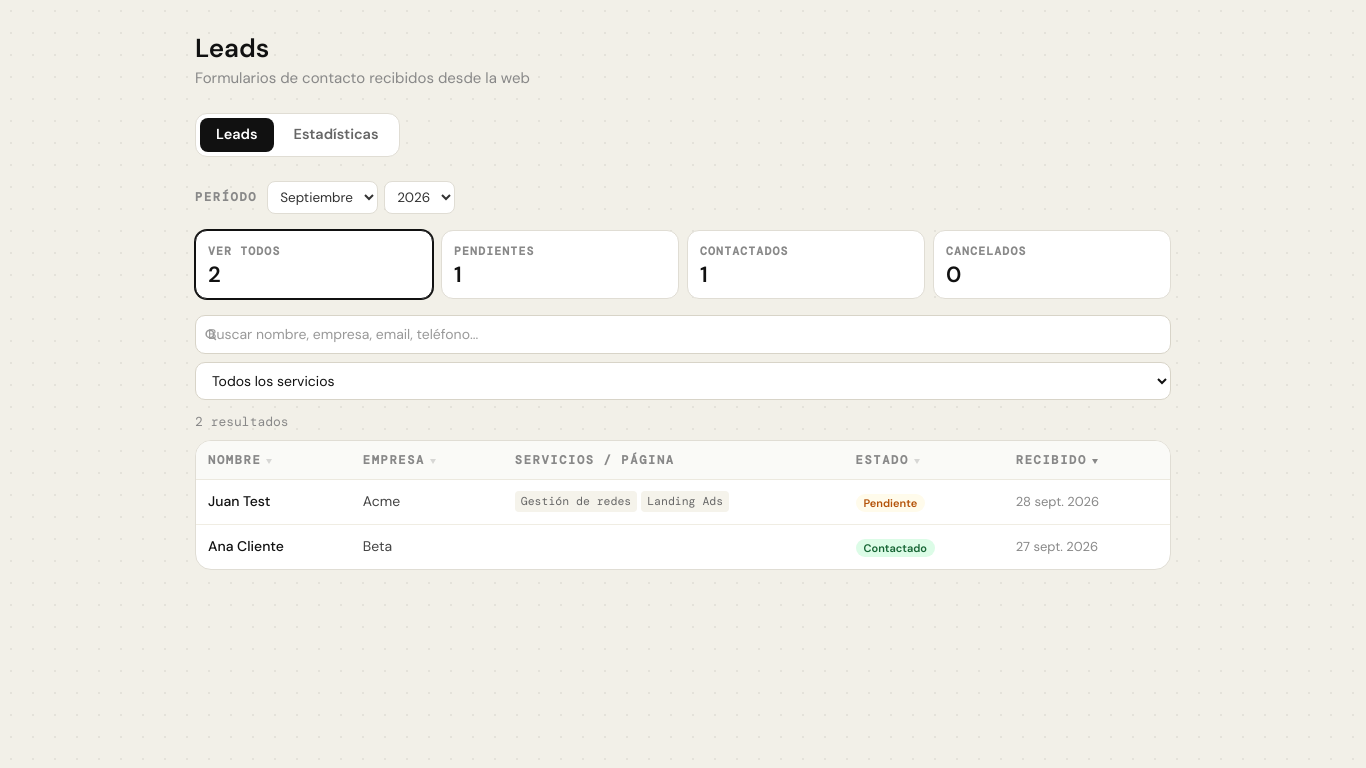
LeadsPage › labels mensaje and objetivo with their name followed by ":" in the detail modal
Expected: the text "Juan Test" is shown, [196,479,351,524]
Click the text "Juan Test": (683, 502) [196,479,1170,524]
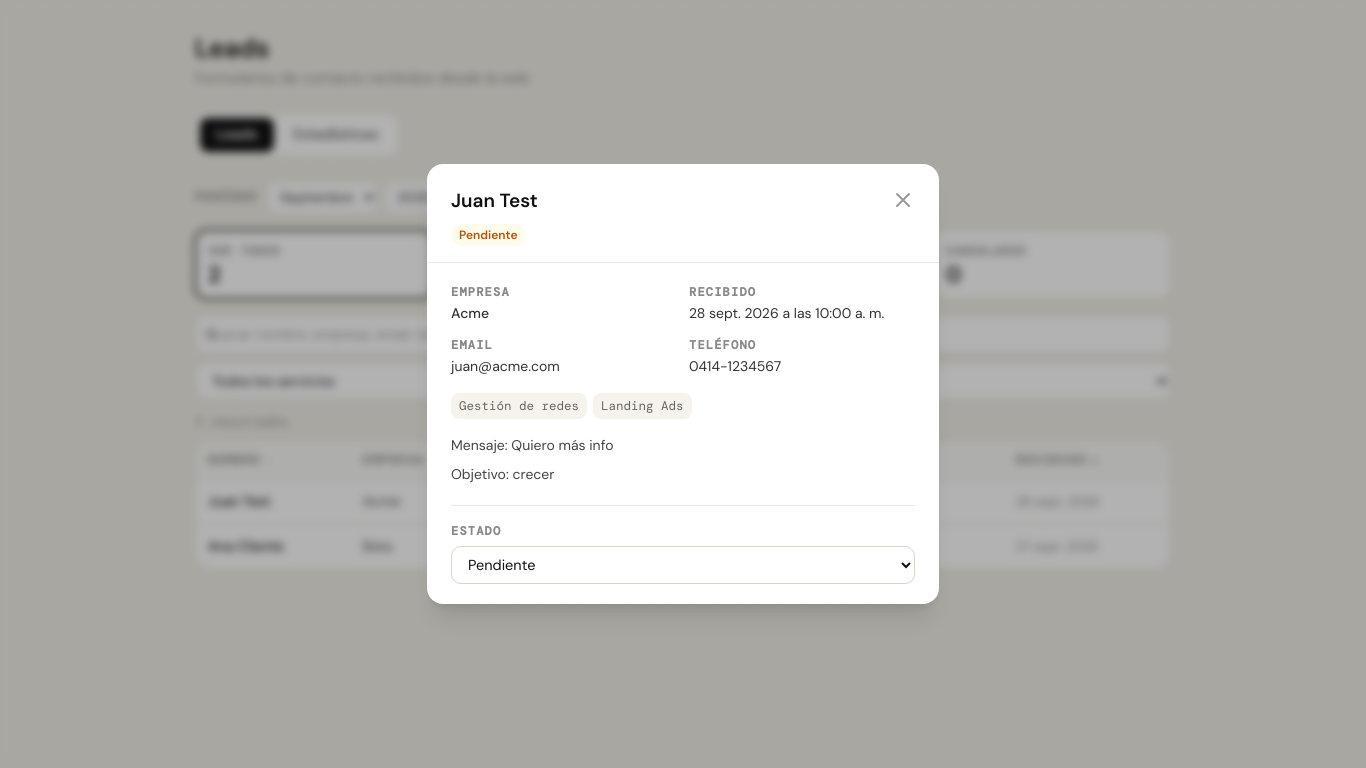
Result: the text "Mensaje: Quiero más info" is shown at [451,436,614,454]
Result: the text "Objetivo: crecer" is shown at [451,465,554,483]
Click the button named "Cerrar": (903, 200) [891,188,915,212]
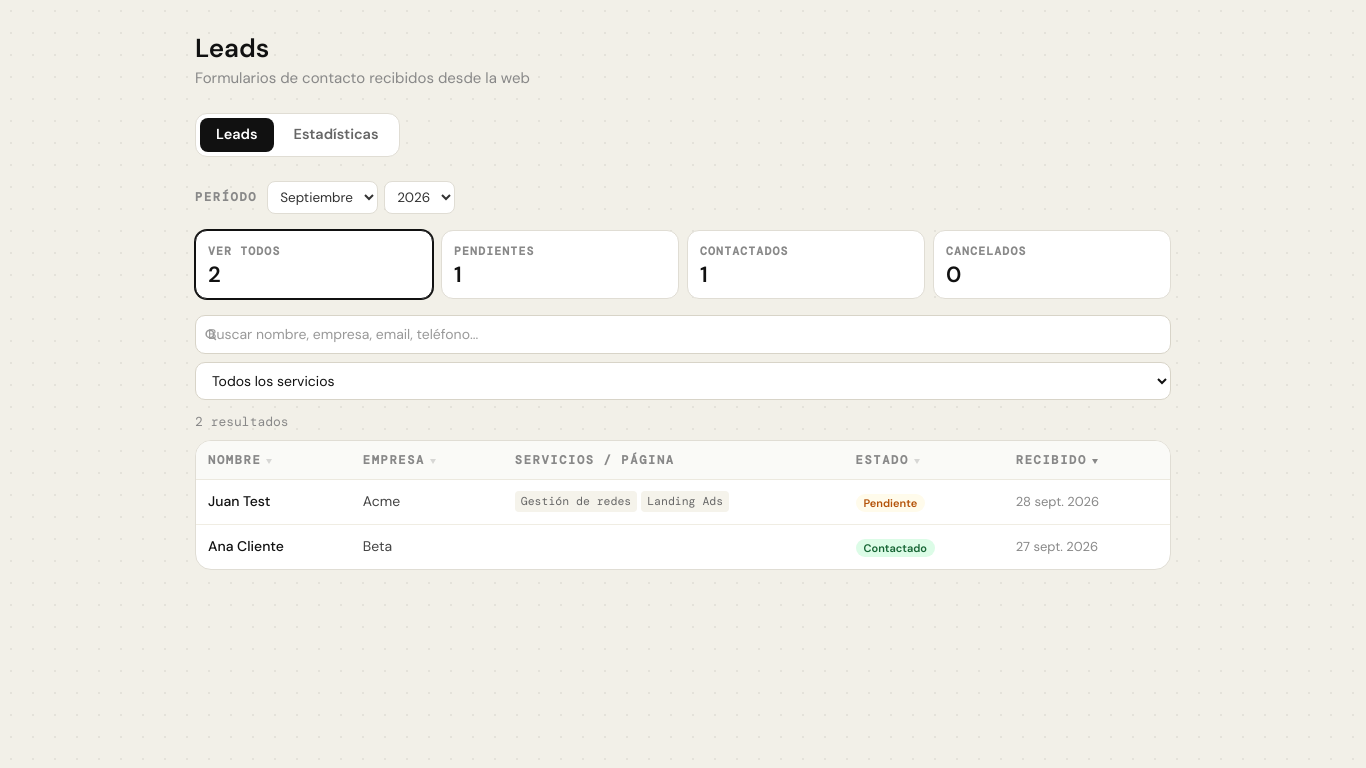
Click the text "Ana Cliente": (246, 546) [196,524,1170,568]
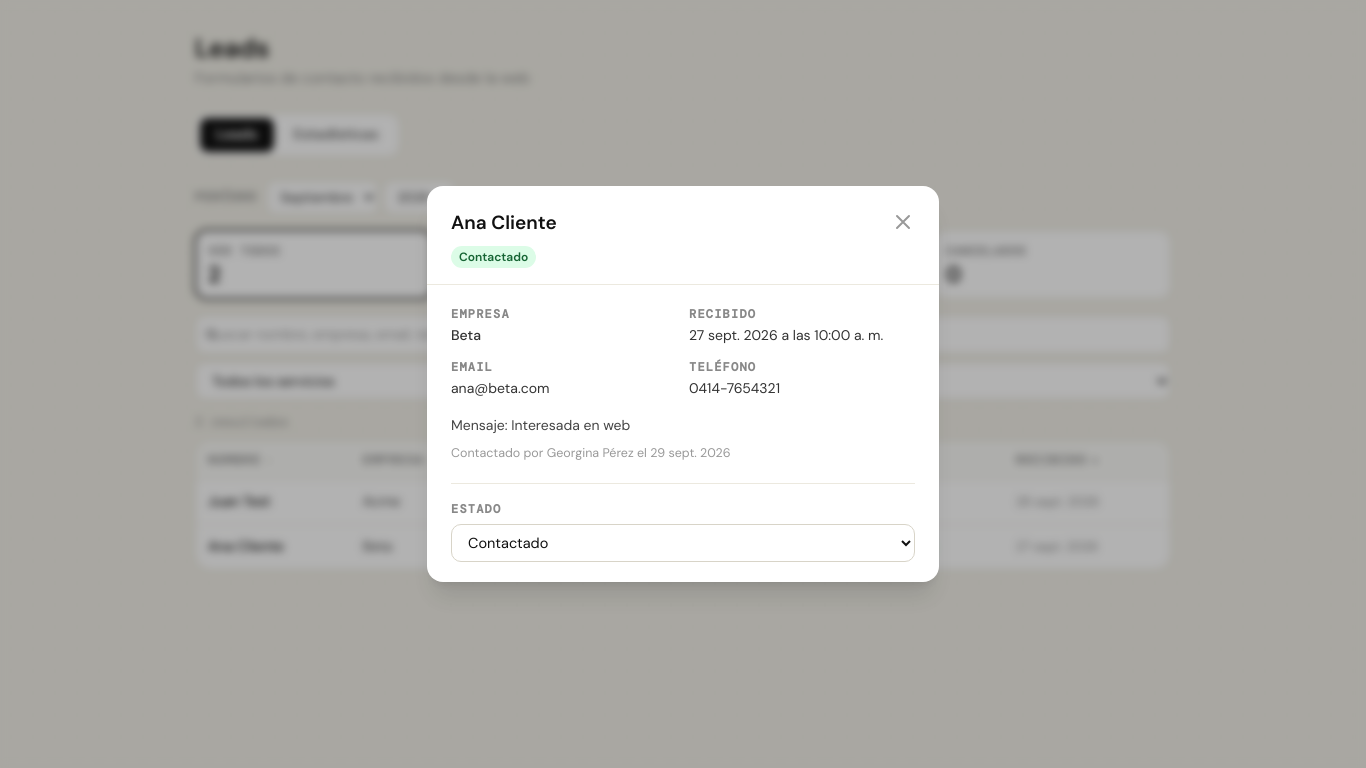
Expected: the text "Objetivo:" is not shown
Result: the text "Mensaje: Interesada en web" is shown at [451,416,630,434]
